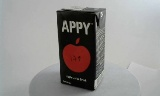appy: (52, 5, 100, 91)
